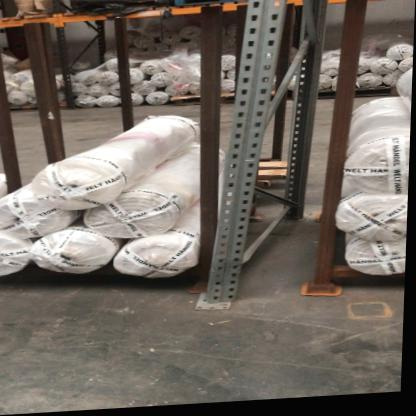vertical_damage: (196, 267, 257, 319)
